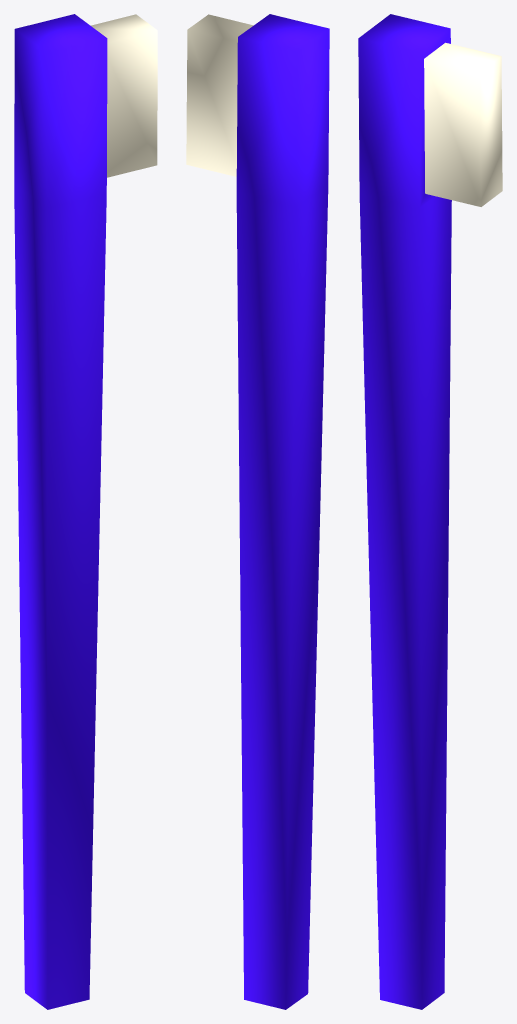
Rendered from ToothBrush.006.glb.
The picture shows the model from 3 angles, left to right: view 1: azimuth 30°, elevation 25°; view 2: azimuth 150°, elevation 25°; view 3: azimuth 330°, elevation 25°; orthographic projection.
Visible parts, largest first — view 1: ToothBrush.006; view 2: ToothBrush.006; view 3: ToothBrush.006.
Part boxes in pixels (bbox=[...]): ToothBrush.006: bbox=[14, 14, 157, 1009]; ToothBrush.006: bbox=[186, 14, 329, 1009]; ToothBrush.006: bbox=[358, 14, 502, 1009].
Bounding box in the file's own units: 0.0328 × 0.2598 × 0.0163.
Materials: 1 (1 with a texture image).
